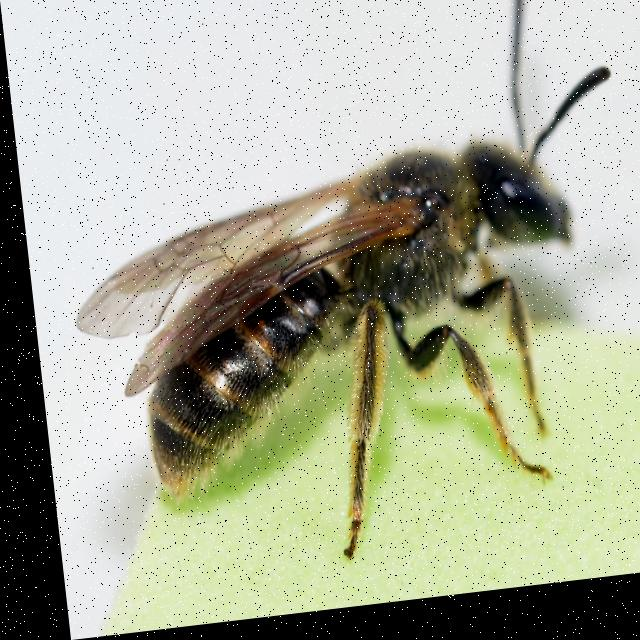Lasioglossum: (50, 0, 640, 576)
